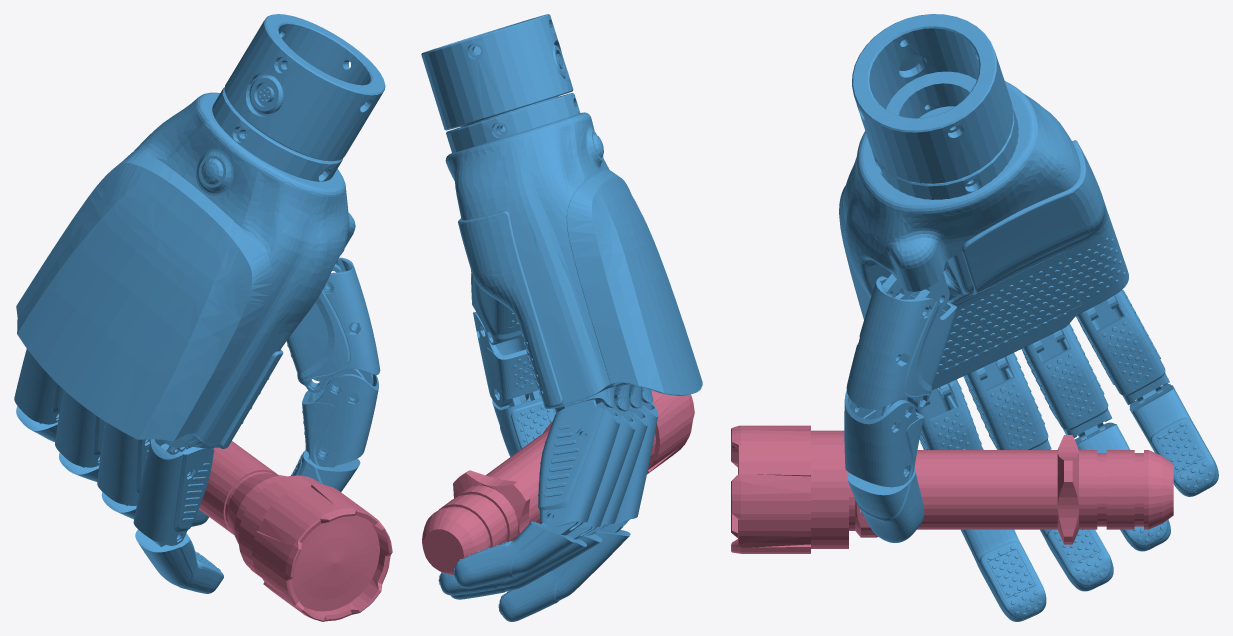
The picture shows the model from 3 angles, left to right: view 1: azimuth 30°, elevation 25°; view 2: azimuth 150°, elevation 25°; view 3: azimuth 270°, elevation 25°; orthographic projection. The views are drawn at different scales.
Visible parts, largest first — view 1: 8; view 2: 8; view 3: 8.
Boxes of the visible parts, x1,y1,x2,y2 form: 8: [14, 14, 392, 621]; 8: [421, 14, 702, 621]; 8: [731, 14, 1218, 621].
Bounding box in the file's own units: 0.1242 × 0.231 × 0.1649.
